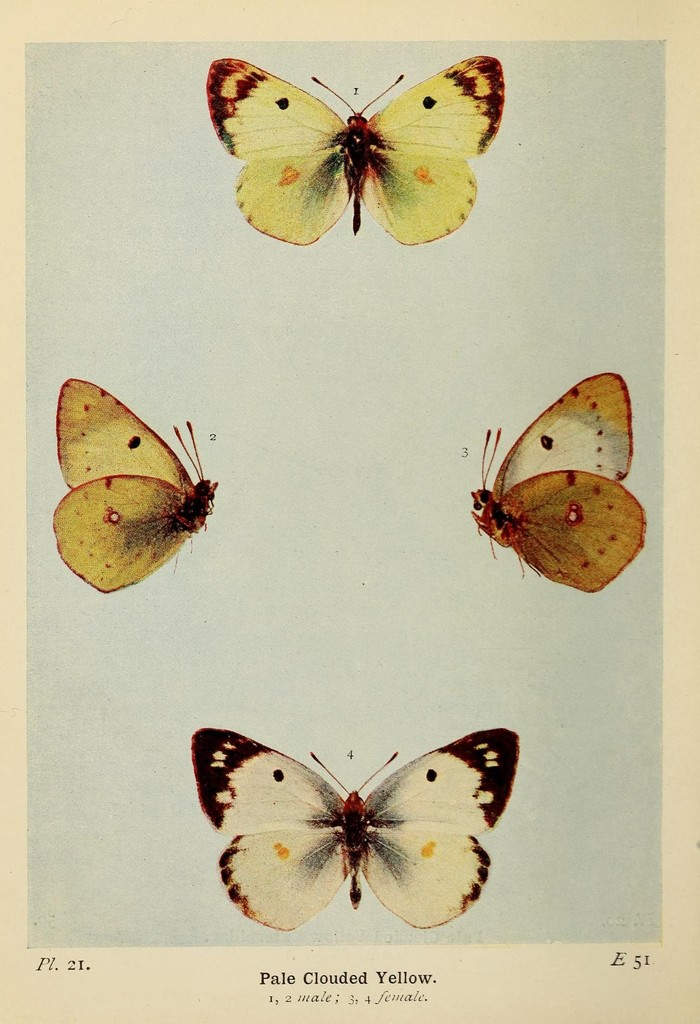Butterfly: (181, 709, 528, 931), (210, 55, 510, 242), (39, 358, 226, 606), (457, 360, 648, 602)
